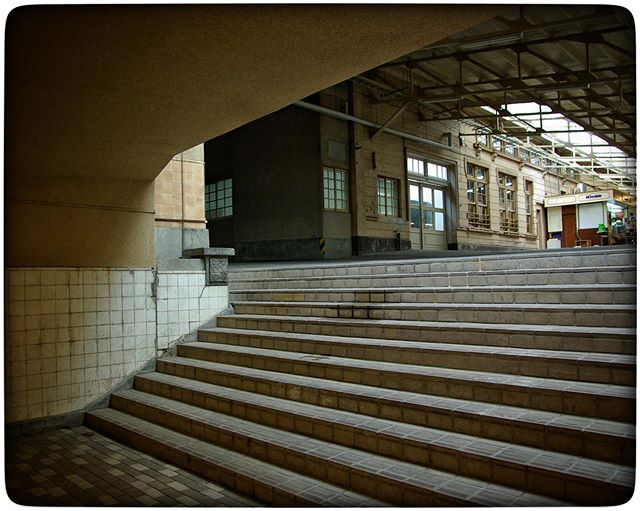building: (220, 82, 539, 255), (543, 186, 615, 253)
